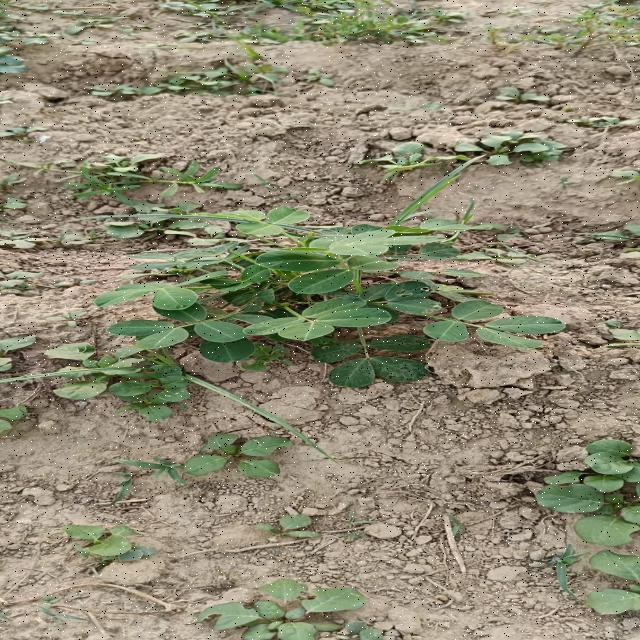plant: (2, 208, 567, 433), (116, 436, 277, 482)
